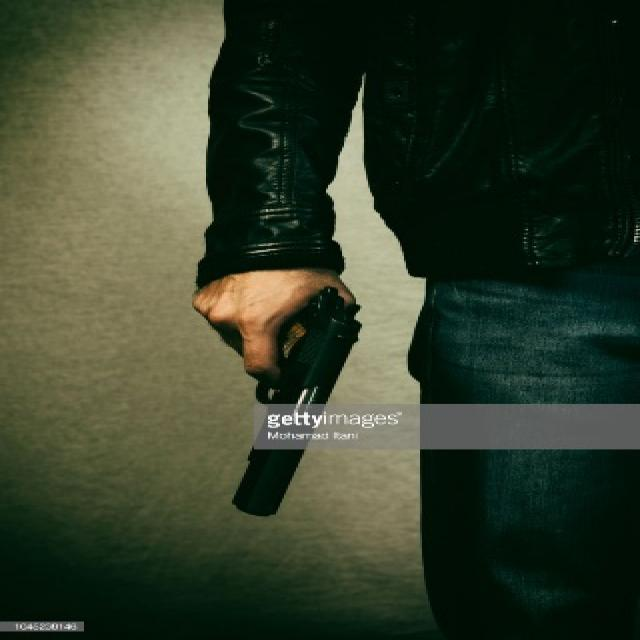handgun: (222, 280, 362, 516)
